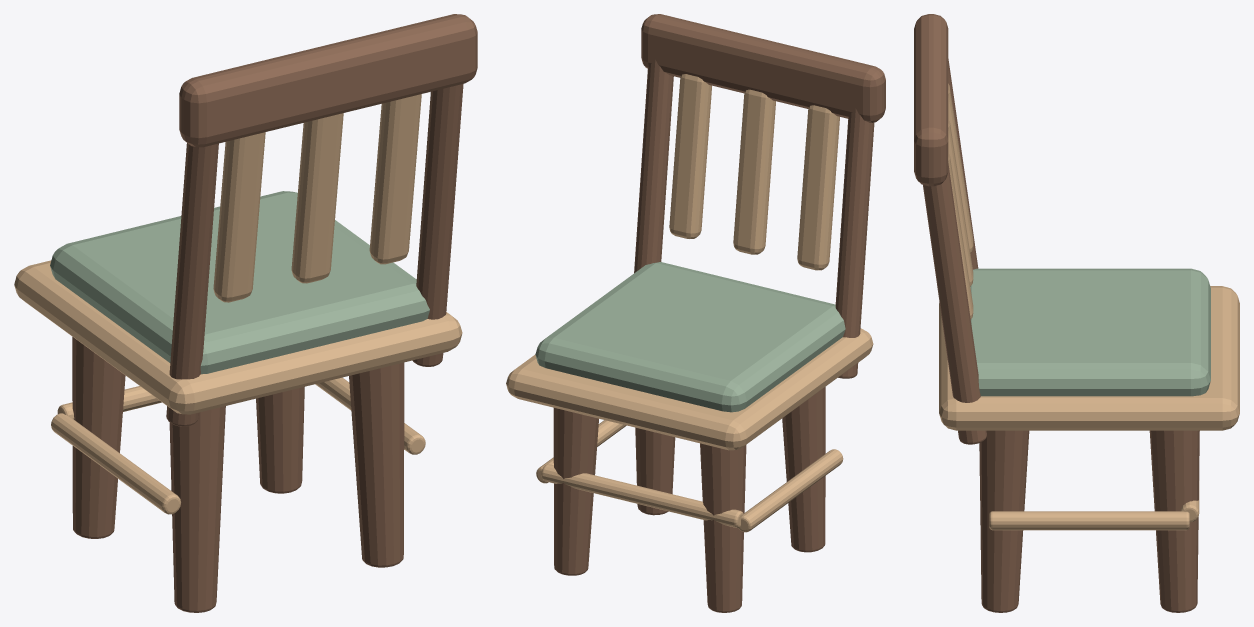
File: DiningChair.fbx
3 views of the same model, side by side, from view 1: azimuth 30°, elevation 25°; view 2: azimuth 150°, elevation 25°; view 3: azimuth 270°, elevation 25° (orthographic). The views are drawn at different scales.
Parts seen in each view (by area): view 1: Sage seat pad, Crest rail, Rounded timber seat, Tapered leg.002, Tapered leg, Swept back post, Tapered leg.001, Swept back post.001, Open back slat.001, Open back slat, Open back slat.002, Tapered leg.003 (+3 smaller); view 2: Sage seat pad, Crest rail, Rounded timber seat, Tapered leg.001, Tapered leg.003, Swept back post, Swept back post.001, Open back slat, Open back slat.001, Open back slat.002, Tapered leg, Front stretcher (+3 smaller); view 3: Sage seat pad, Rounded timber seat, Tapered leg.002, Tapered leg.003, Swept back post.001, Crest rail, Side stretcher.001, Open back slat.001, Open back slat, Open back slat.002, Swept back post.
Part boxes in pixels (x1,y1,x2,y2): Sage seat pad: (50,191,429,374); Crest rail: (179,14,477,147); Rounded timber seat: (14,260,462,414); Tapered leg.002: (349,362,404,567); Tapered leg: (169,406,225,612); Swept back post: (166,143,218,426); Tapered leg.001: (72,337,125,538); Swept back post.001: (412,84,463,366); Open back slat.001: (291,113,343,283); Open back slat: (213,132,265,302); Open back slat.002: (369,94,421,264); Tapered leg.003: (256,386,304,493); Sage seat pad: (535,262,845,412); Crest rail: (641,14,885,122); Rounded timber seat: (506,328,873,450); Tapered leg.001: (700,443,746,612); Tapered leg.003: (553,408,598,575); Swept back post: (835,108,874,378); Swept back post.001: (634,59,673,273); Open back slat: (797,105,839,270); Open back slat.001: (733,89,775,254); Open back slat.002: (669,74,711,238); Tapered leg: (782,387,825,552); Front stretcher: (541,464,743,527); Sage seat pad: (970,268,1210,396); Rounded timber seat: (939,286,1239,430); Tapered leg.002: (979,430,1029,612); Tapered leg.003: (1149,430,1199,612); Swept back post.001: (923,163,986,444); Crest rail: (914,14,948,186); Side stretcher.001: (989,511,1189,530); Open back slat.001: (948,117,973,286); Open back slat: (948,83,973,252); Open back slat.002: (948,150,973,319); Swept back post: (948,59,978,269).
Bounding box in the file's own units: 56 × 104 × 61.75.
